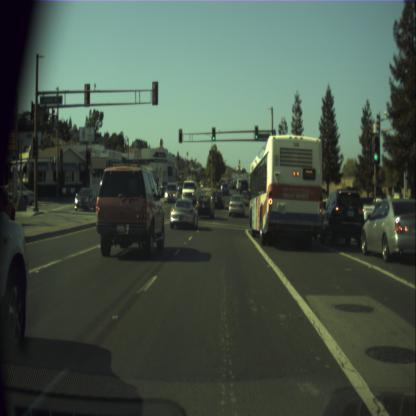Green: (372, 134, 379, 162), (254, 125, 258, 140), (212, 127, 215, 140)
Red: (178, 127, 182, 142)
